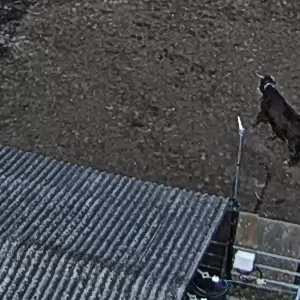cow: (243, 63, 300, 176)
